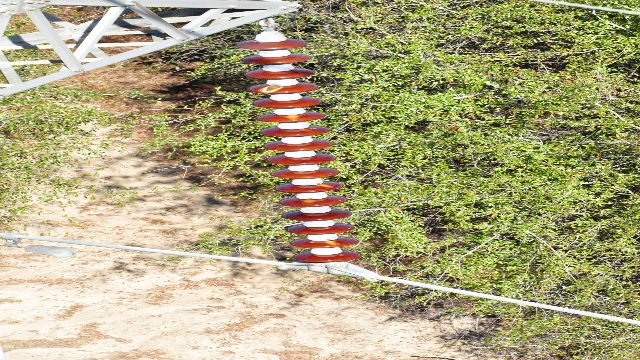insulator_unspecified: (238, 41, 360, 262)
pollution_flashover_local: (263, 84, 280, 93), (319, 182, 337, 189), (299, 199, 316, 206), (326, 240, 345, 246), (286, 114, 300, 121), (303, 128, 316, 134)
